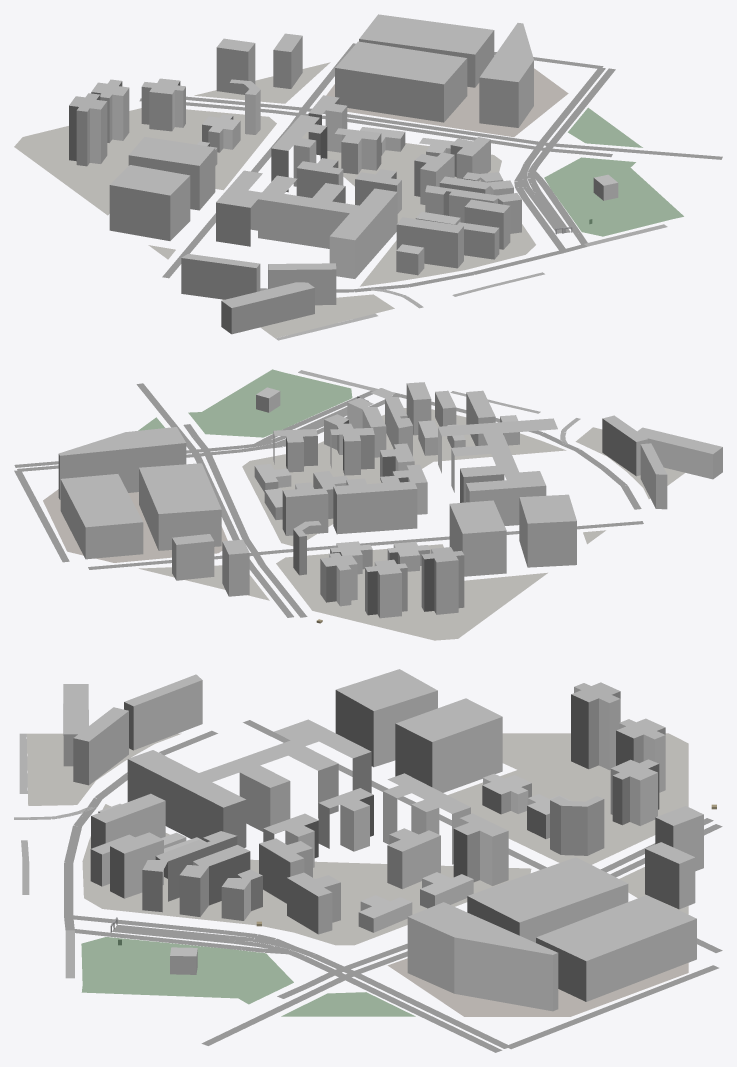
3 renders of one model, top to bottom at view 1: azimuth 30°, elevation 25°; view 2: azimuth 150°, elevation 25°; view 3: azimuth 270°, elevation 25°, orthographic. The views are drawn at different scales.
Bounding box in the file's own units: 594 × 56.33 × 530.
